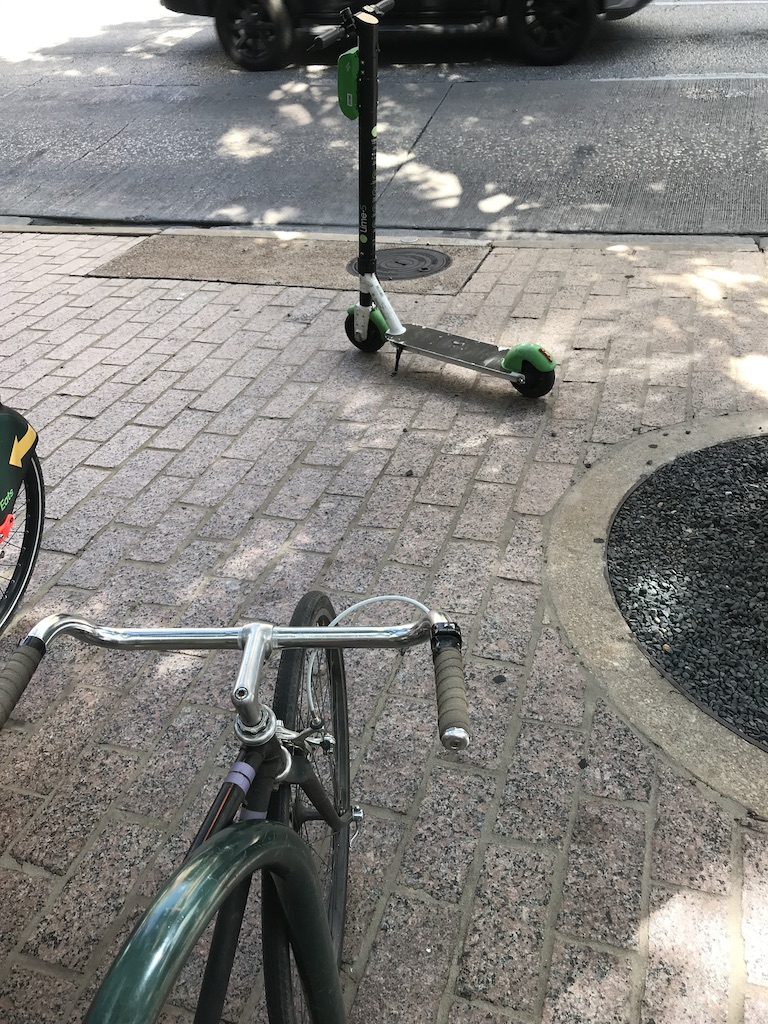scooter: (313, 2, 560, 400)
